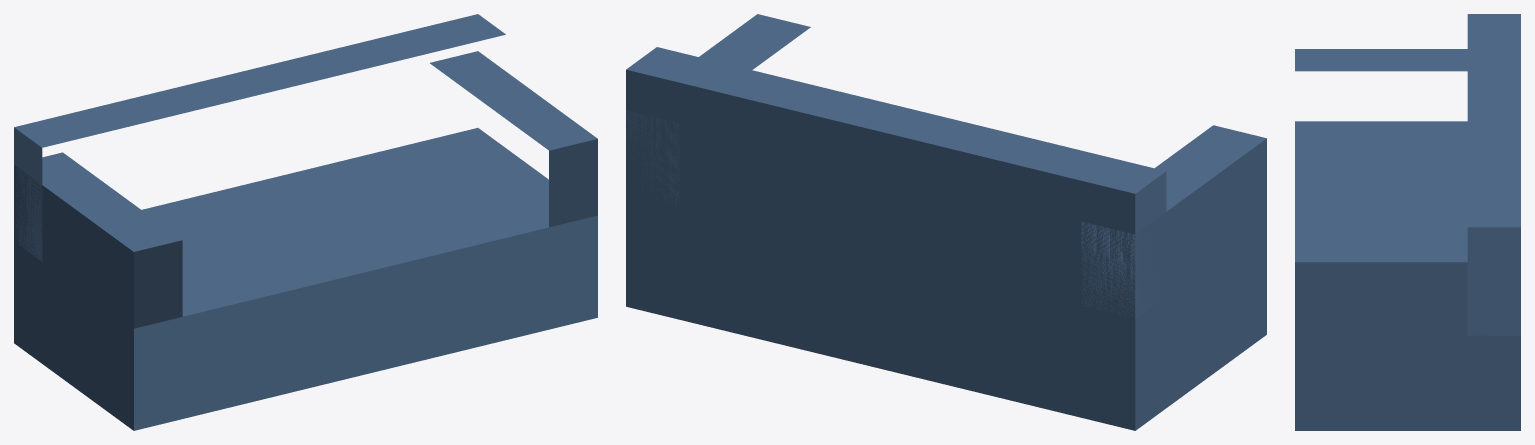
Rendered from sofa.glb.
The picture shows the model from 3 angles, left to right: view 1: azimuth 30°, elevation 25°; view 2: azimuth 150°, elevation 25°; view 3: azimuth 270°, elevation 25°; orthographic projection. The views are drawn at different scales.
Bounding box in the file's own units: 1.9 × 0.845 × 0.85.
